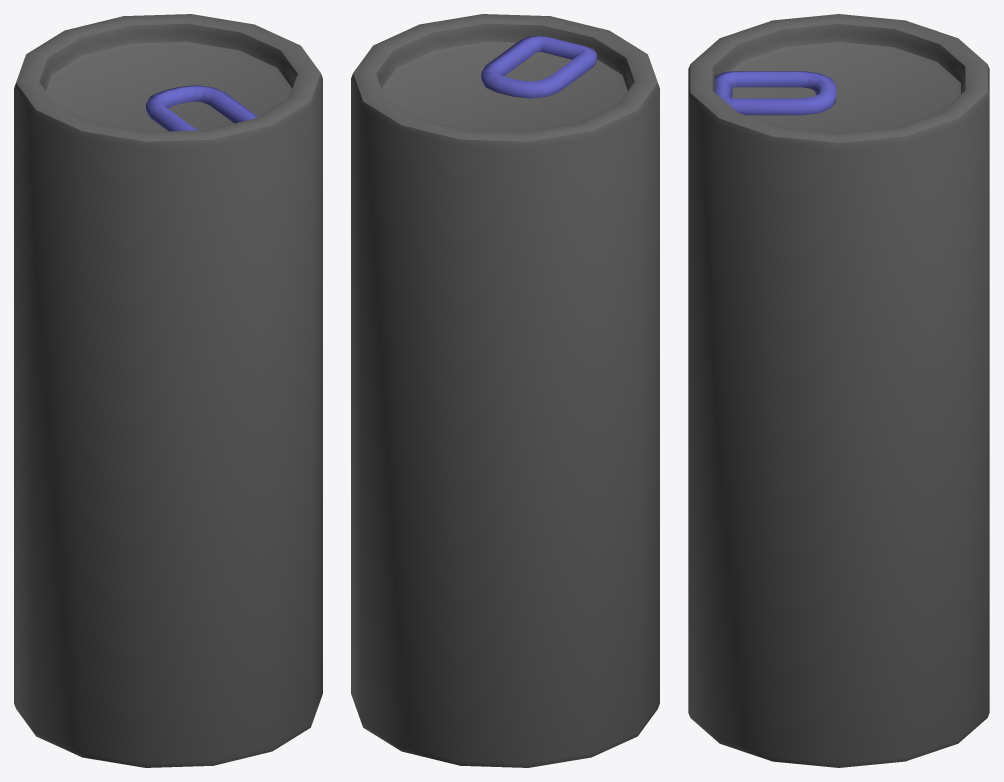
File: SM_soda_can.fbx
3 views of the same model, side by side, from view 1: azimuth 30°, elevation 25°; view 2: azimuth 150°, elevation 25°; view 3: azimuth 270°, elevation 25° (orthographic).
Parts seen in each view (by area): view 1: Cylinder050; view 2: Cylinder050; view 3: Cylinder050.
Part boxes in pixels (x1,y1,x2,y2): Cylinder050: [14, 14, 322, 767]; Cylinder050: [351, 14, 659, 767]; Cylinder050: [688, 14, 989, 767].
Size of the model in its own units: 6.46 by 14.49 by 6.3.
